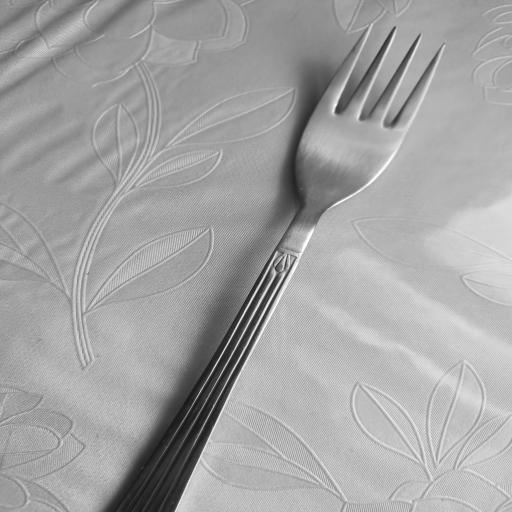fork: (106, 21, 448, 512)
